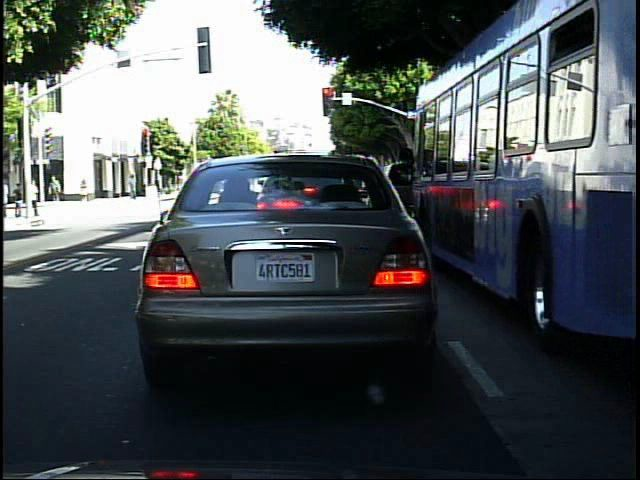person: (76, 172, 94, 209), (11, 179, 26, 221), (48, 170, 66, 204), (125, 170, 143, 204), (30, 173, 43, 216)
